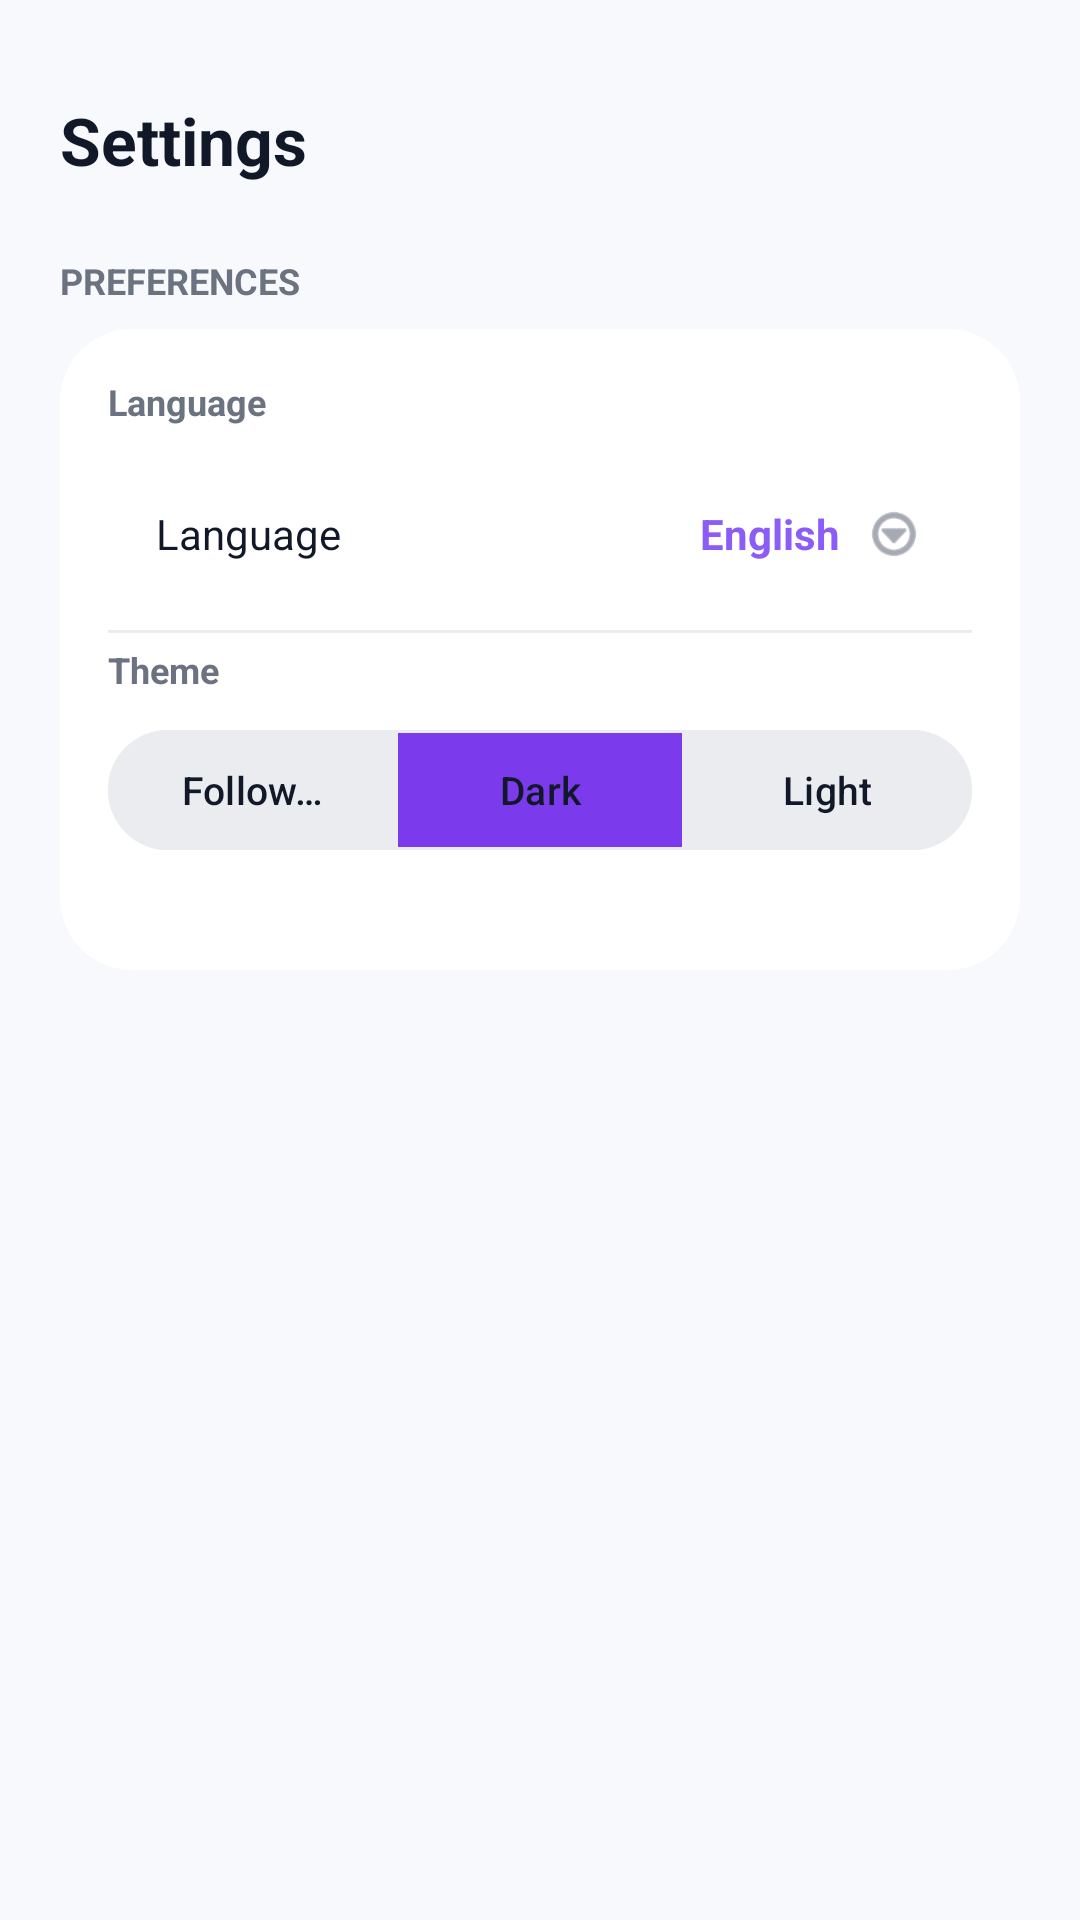

Where icons sit on this 1080w x 1920h app screen, as (x1, y1, x2, y2):
more: (872, 512, 916, 556)
